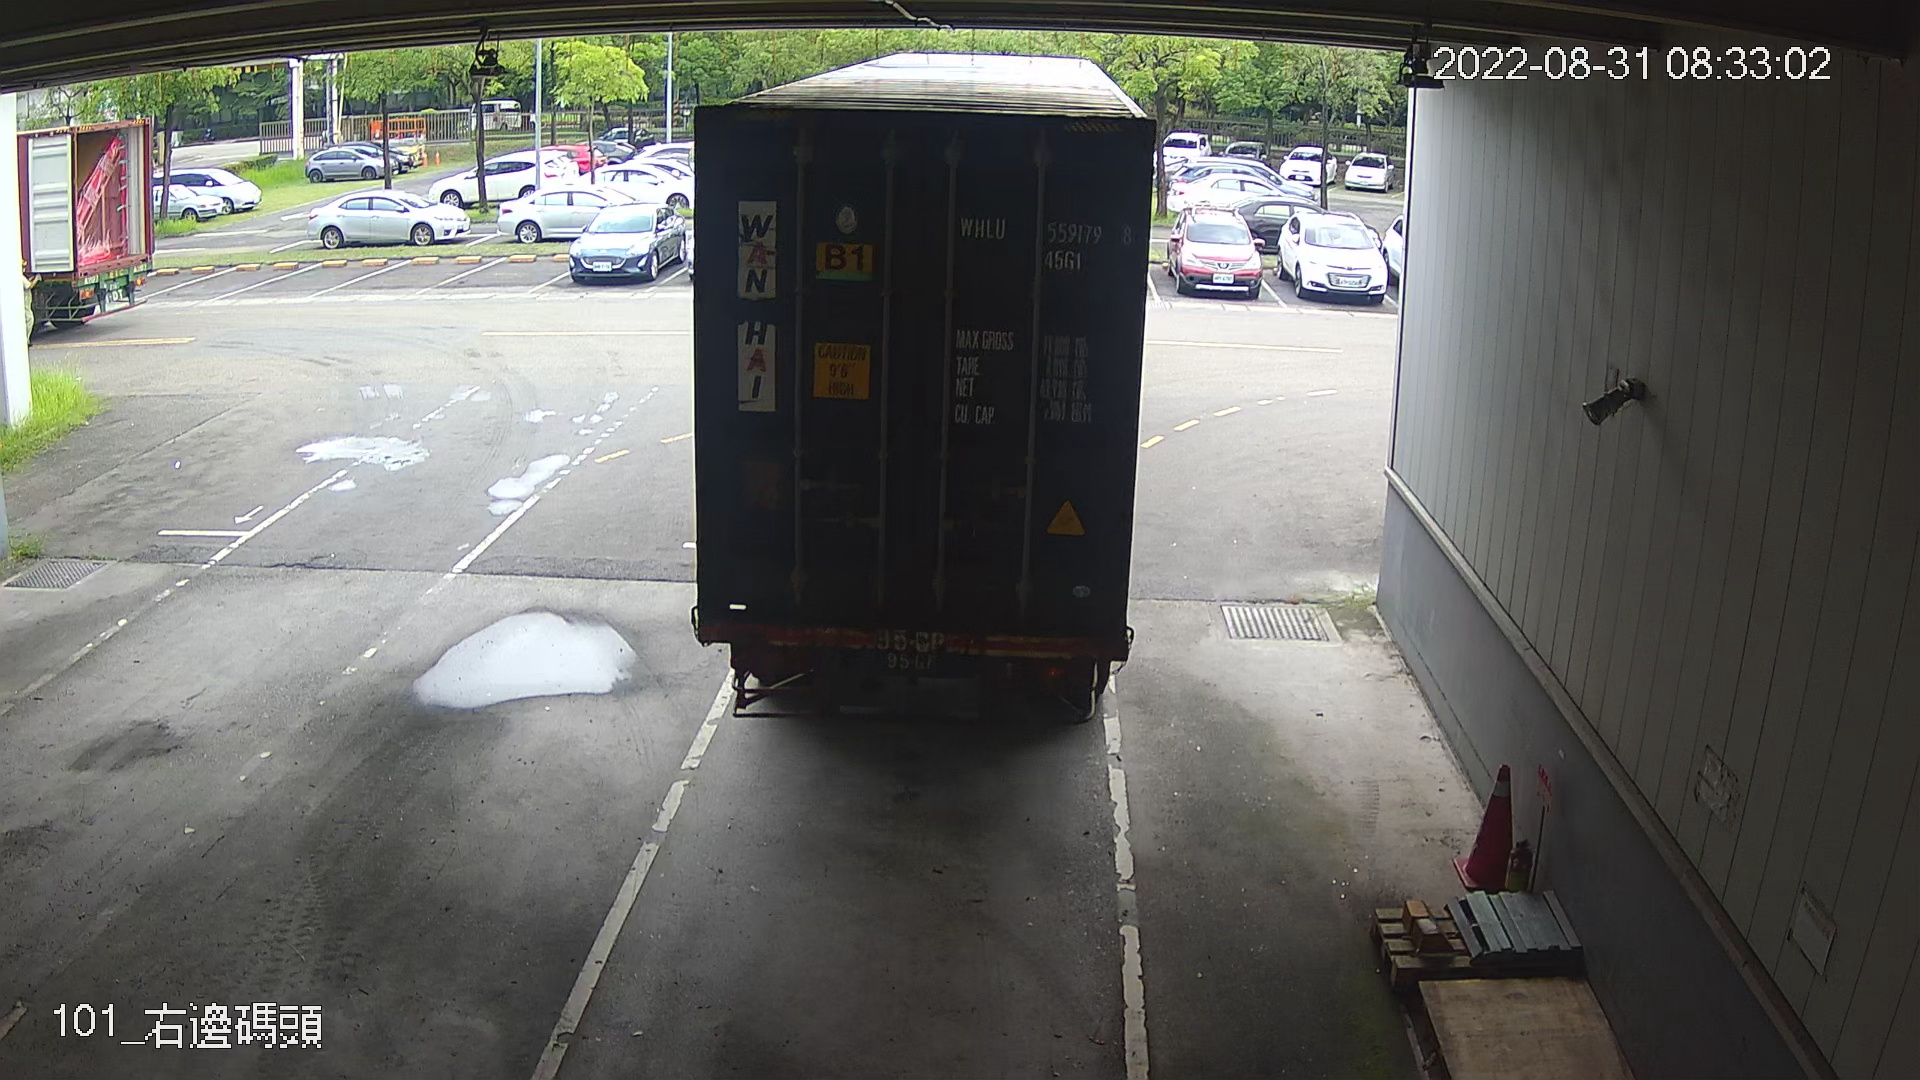container: (1023, 186, 1187, 255)
